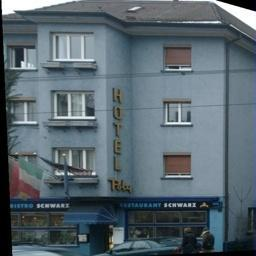building: (0, 8, 255, 256)
